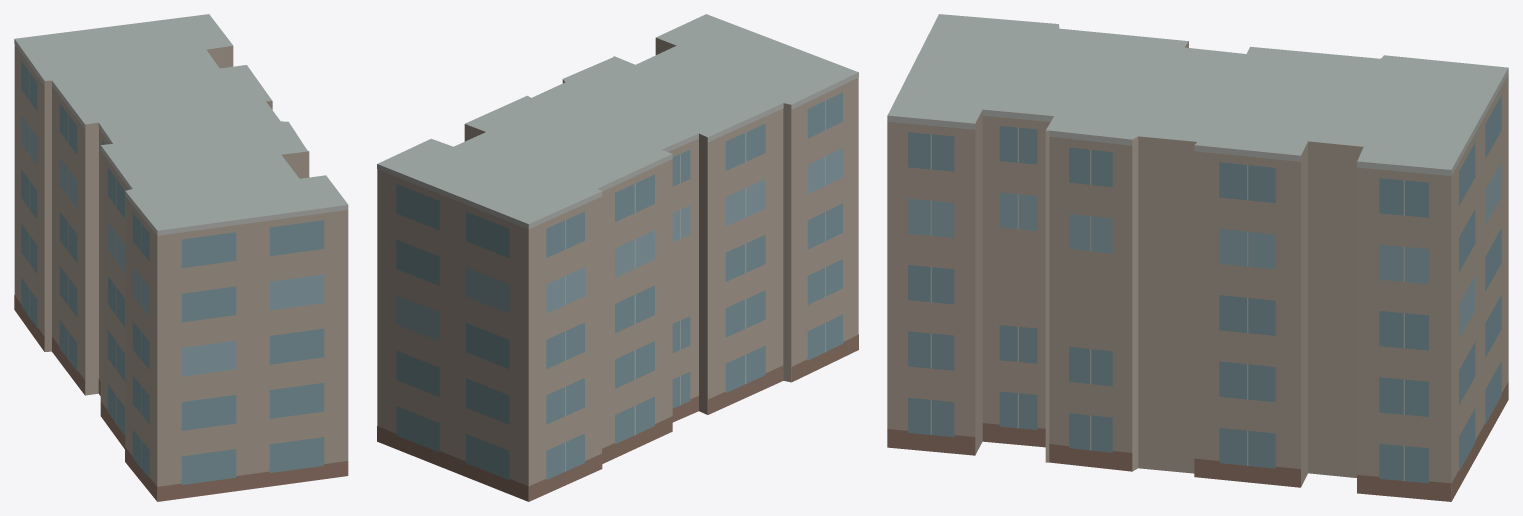
File: survey-upis-32952186.glb
The picture shows the model from 3 angles, left to right: view 1: azimuth 30°, elevation 25°; view 2: azimuth 150°, elevation 25°; view 3: azimuth 270°, elevation 25°; orthographic projection. The views are drawn at different scales.
Visible parts, largest first — view 1: survey-upis-32952186.tmp; view 2: survey-upis-32952186.tmp; view 3: survey-upis-32952186.tmp.
Part boxes in pixels (box(x1,y1,x2,y2)): survey-upis-32952186.tmp: box(14, 14, 348, 501); survey-upis-32952186.tmp: box(377, 14, 858, 501); survey-upis-32952186.tmp: box(887, 14, 1508, 501).
Bounding box in the file's own units: 13.31 × 13.2 × 22.4.
